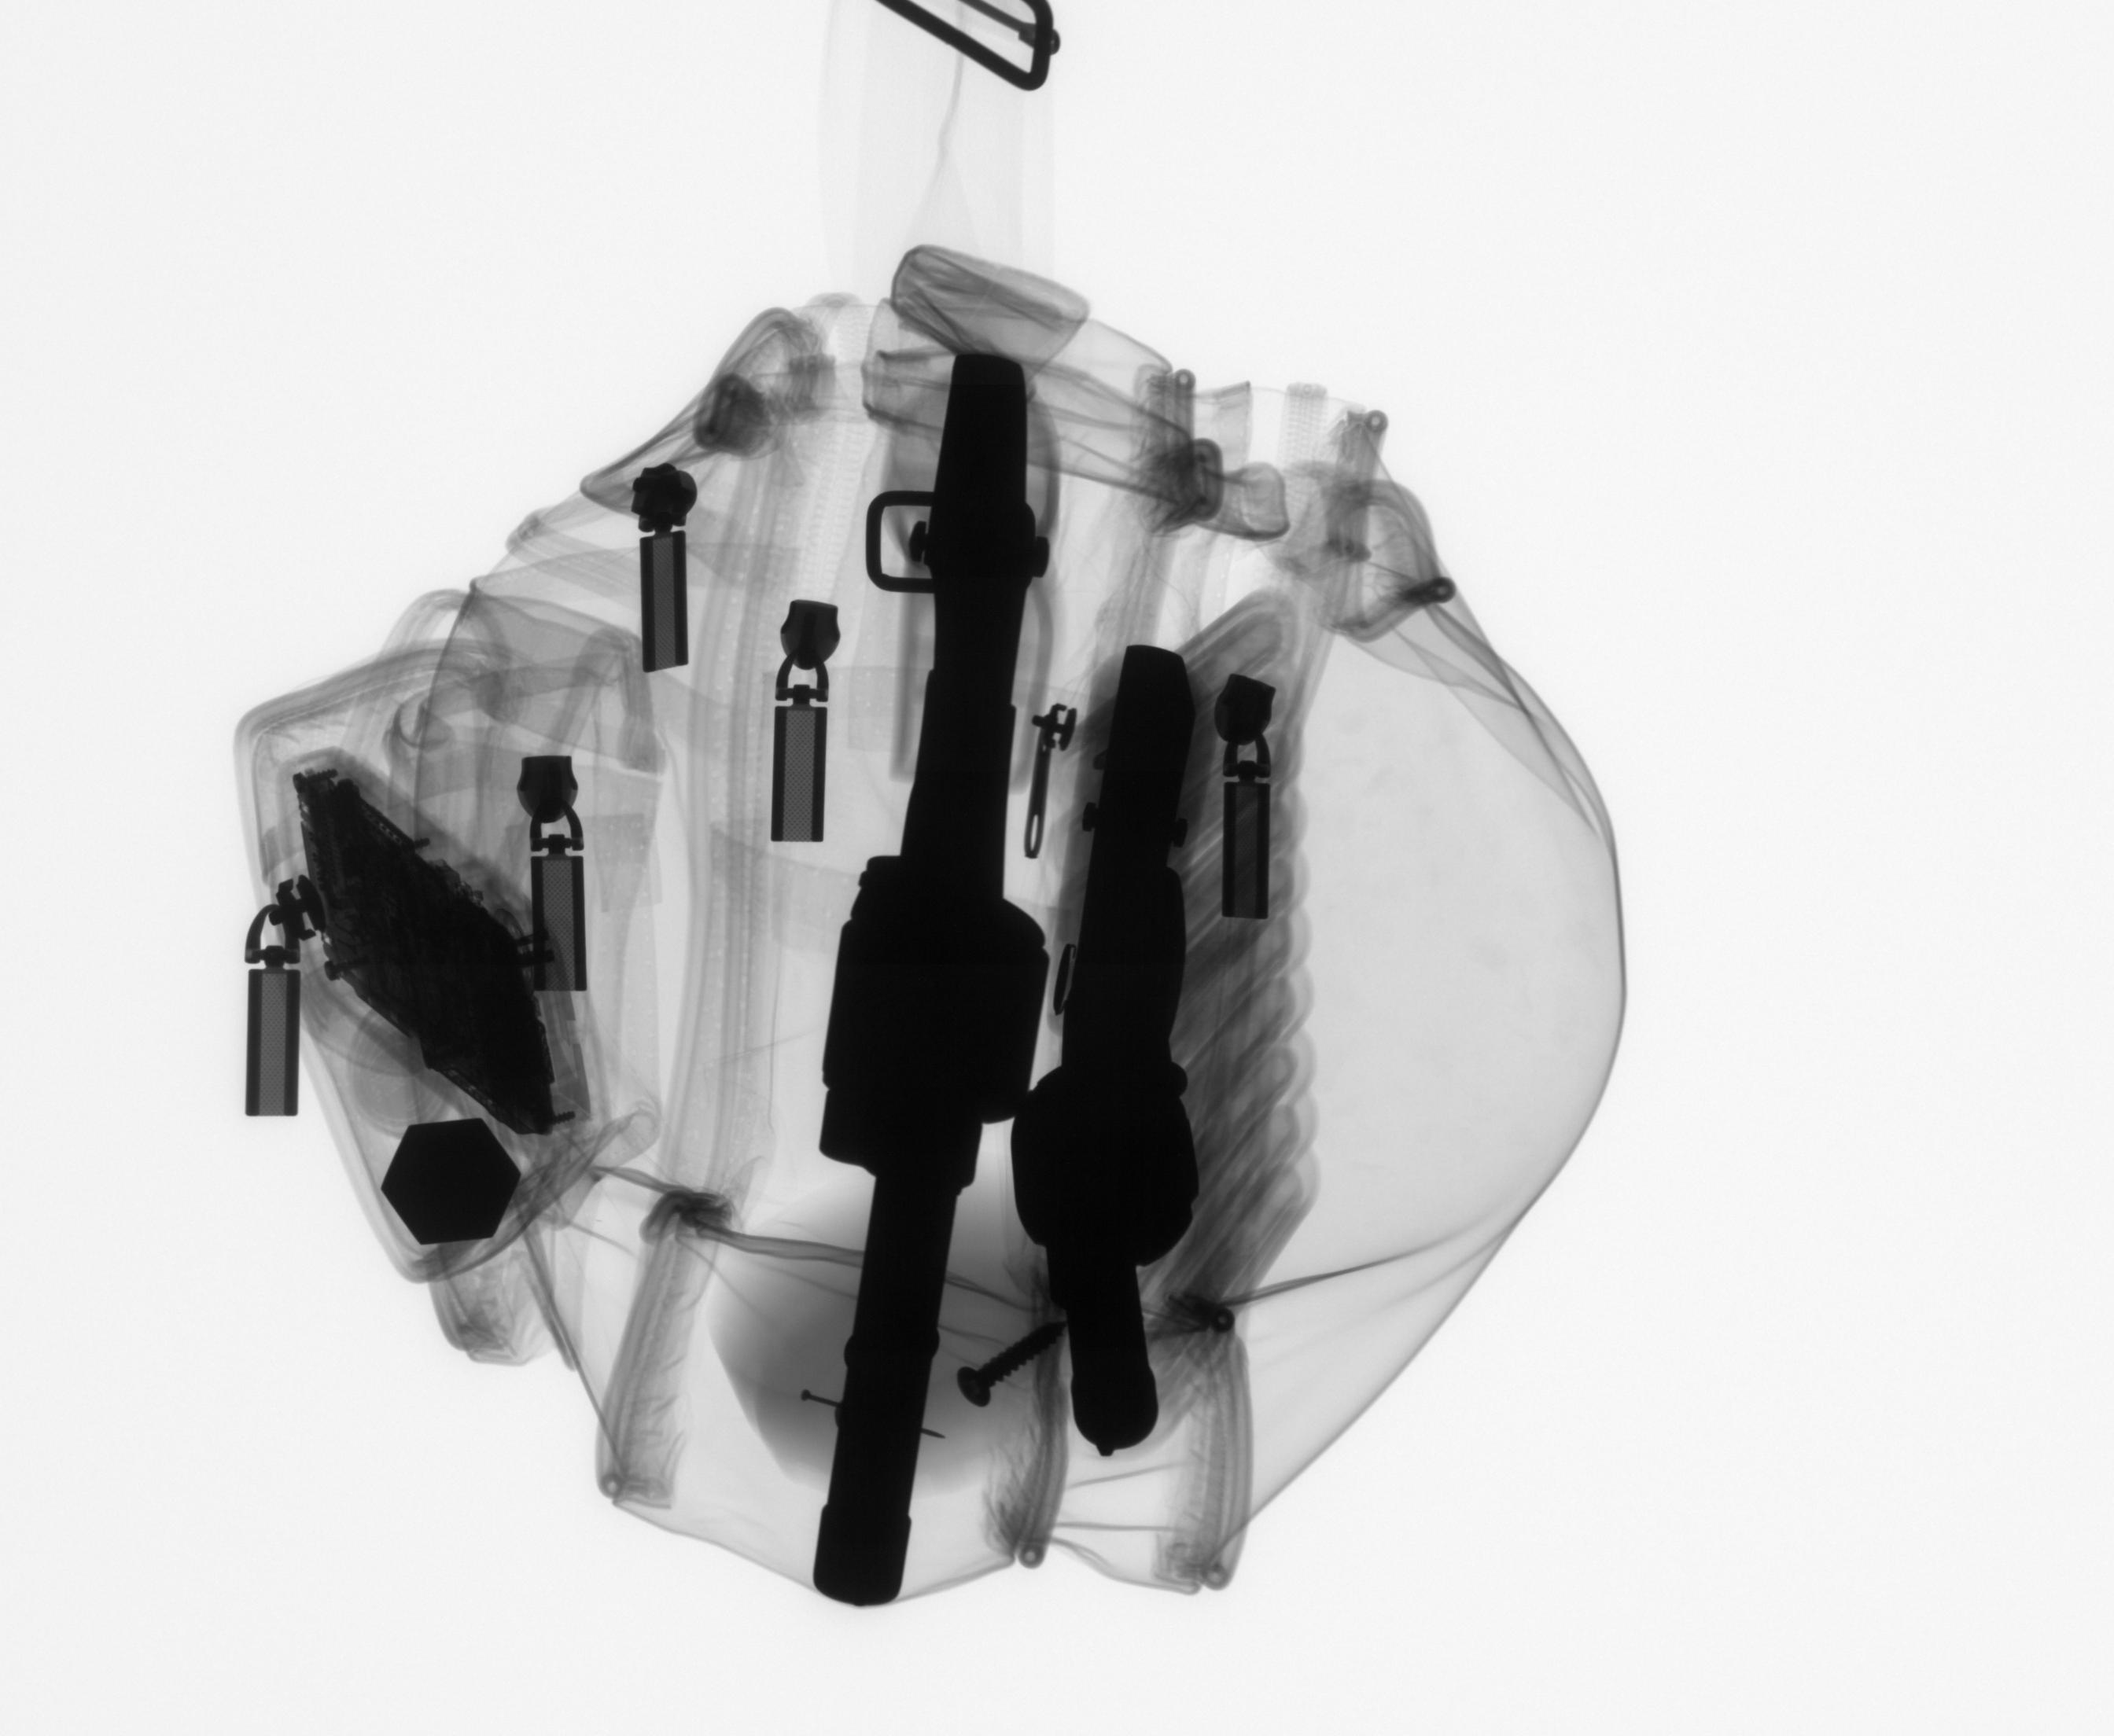Handgun: (778, 334, 1071, 1631)
